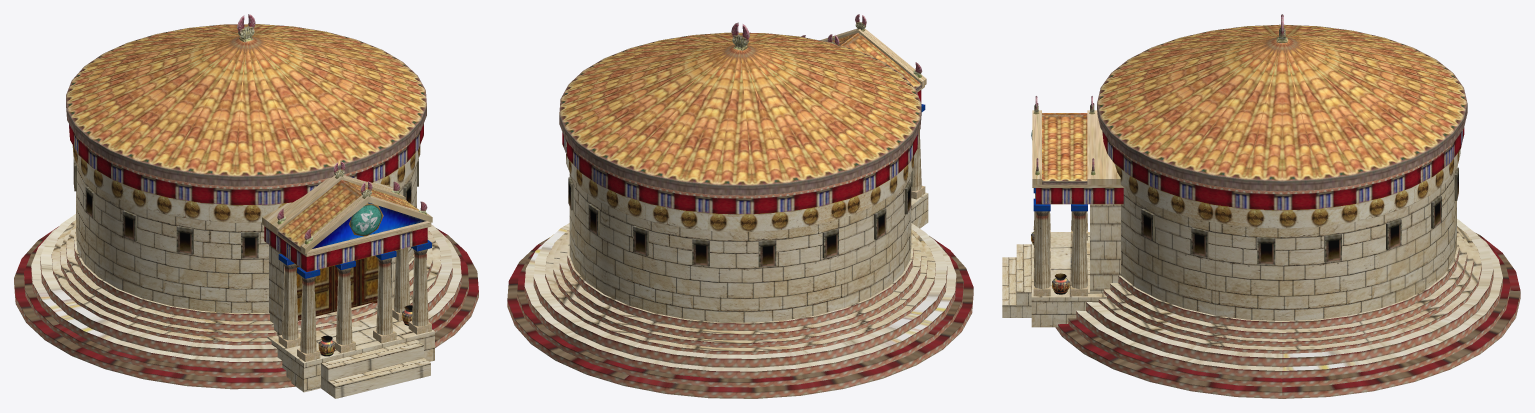
File: special.dae
3 renders of one model, left to right at view 1: azimuth 30°, elevation 25°; view 2: azimuth 150°, elevation 25°; view 3: azimuth 270°, elevation 25°, orthographic. The views are drawn at different scales.
Visible parts, largest first — view 1: special; view 2: special; view 3: special.
Boxes of the visible parts, box(x1,y1,x2,y2) form: special: box(14, 14, 478, 398); special: box(507, 14, 973, 398); special: box(1002, 14, 1520, 398).
Bounding box in the file's own units: 23.27 × 25.3 × 15.25.
